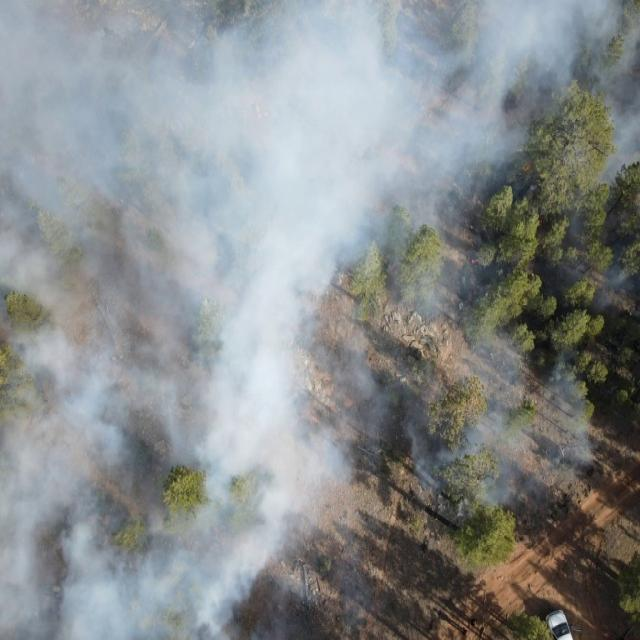fire: (522, 162, 534, 174), (468, 256, 482, 266)
smoke: (1, 0, 358, 640), (357, 0, 593, 522), (595, 0, 640, 332)
